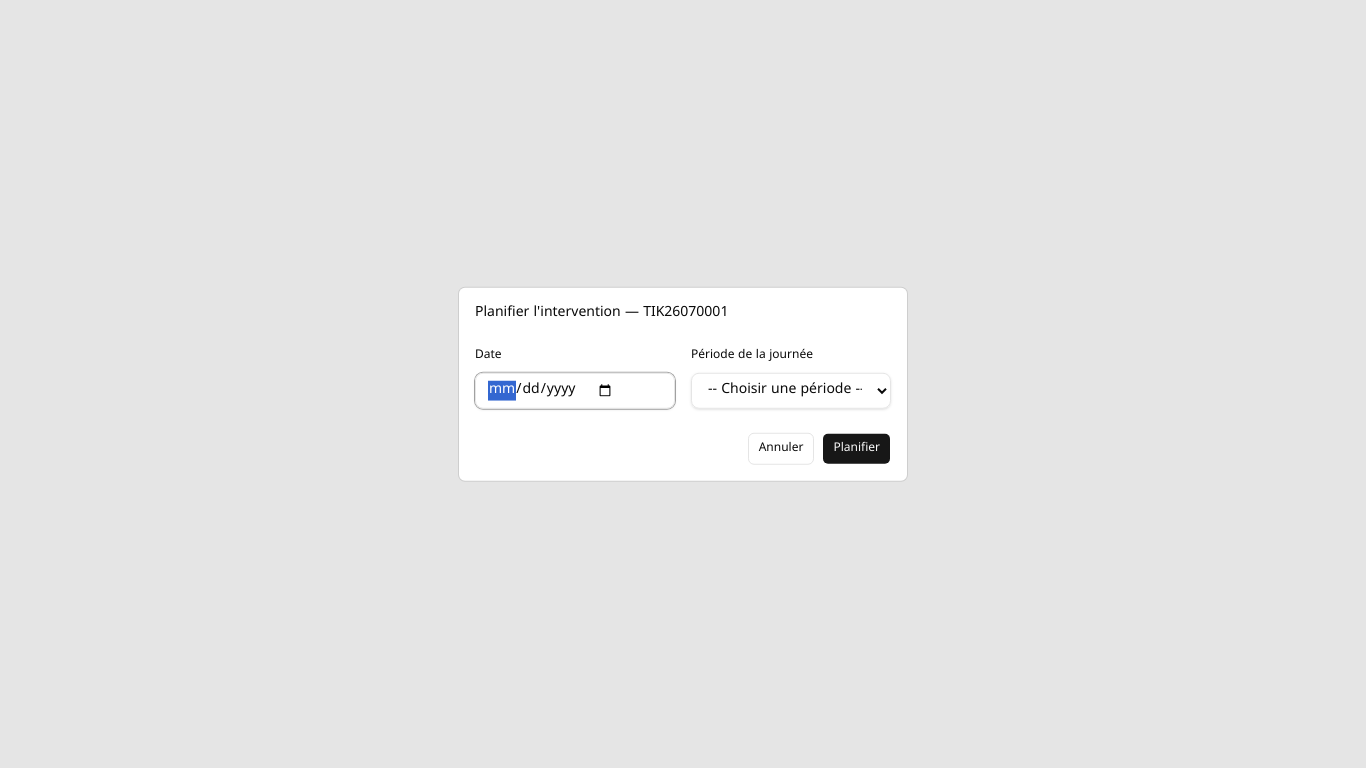
Scenario: TikActionDialog › affiche une erreur si on confirme une planification sans date ni période
Click the button "Planifier".
click(857, 448)  # box top-left (822, 432), bottom-right (891, 464)
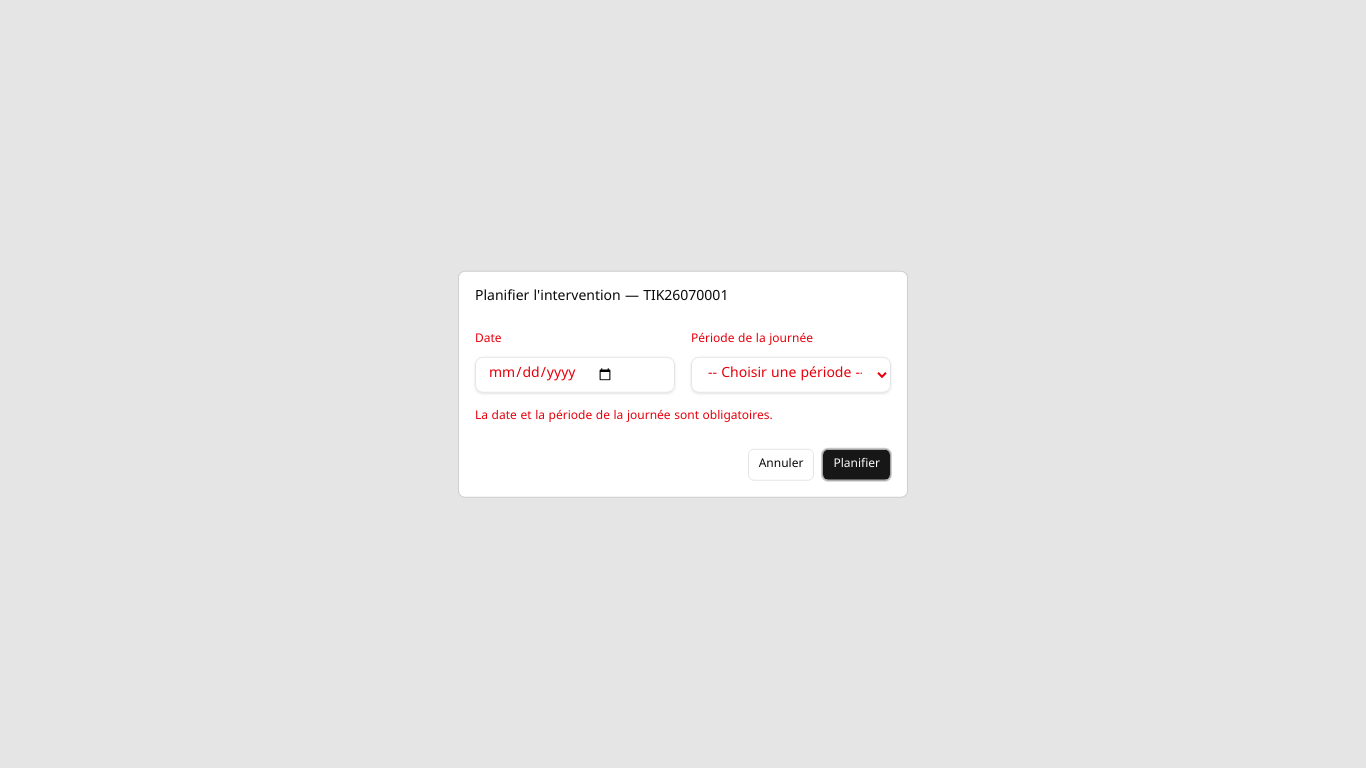
Expected: the text "La date et la période de la journée sont obligatoires." is shown, top-left (475, 407), bottom-right (773, 425)
